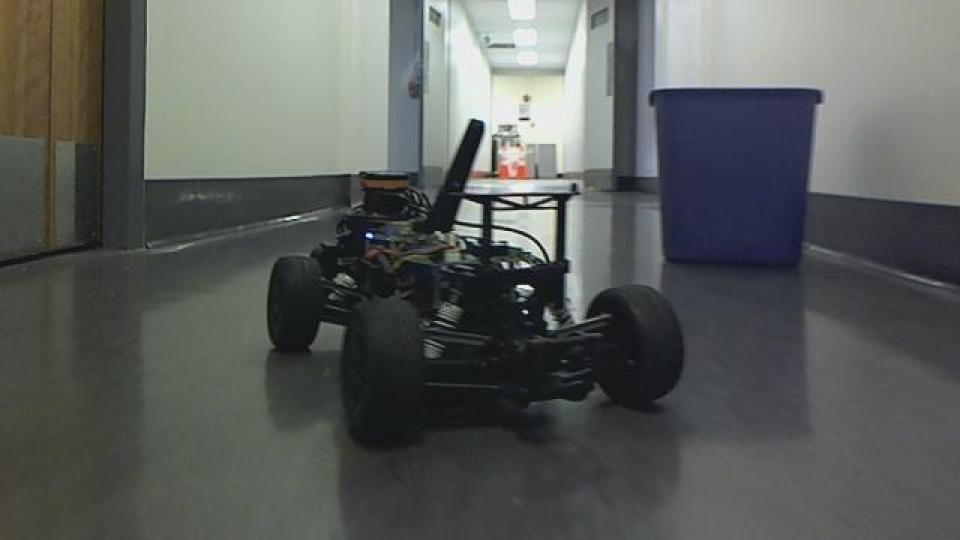car: (263, 116, 687, 448)
